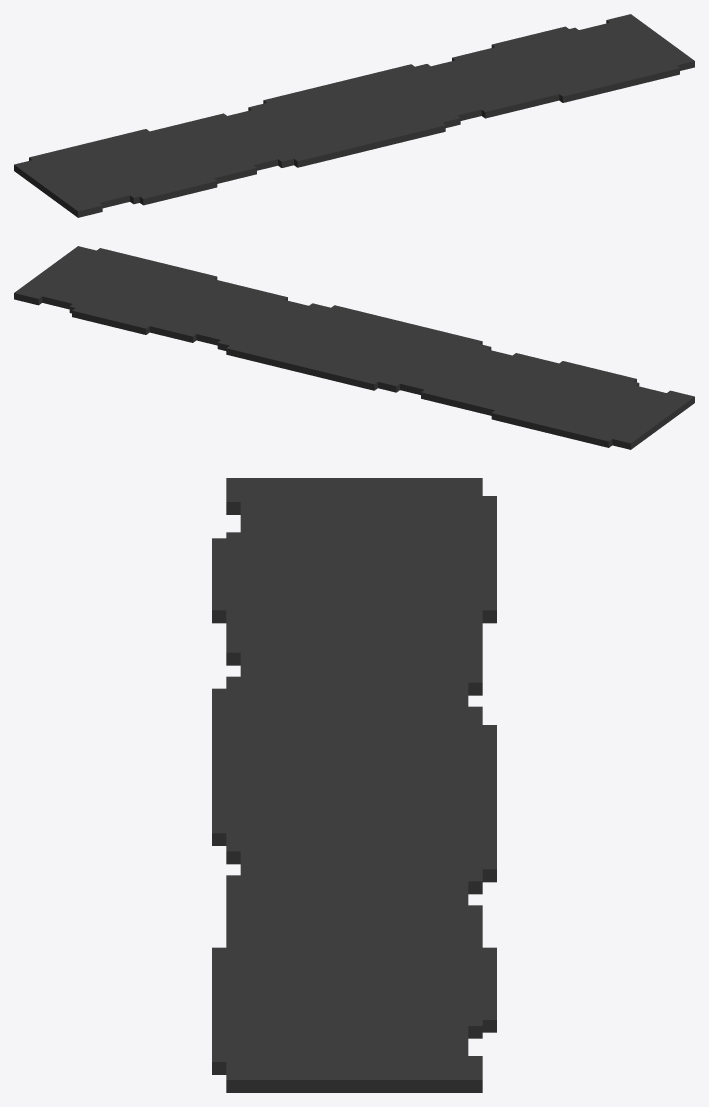
Rendered from Road.gltf.
The picture shows the model from 3 angles, top to bottom: view 1: azimuth 30°, elevation 25°; view 2: azimuth 150°, elevation 25°; view 3: azimuth 270°, elevation 25°; orthographic projection. The views are drawn at different scales.
Size of the model in its own units: 10 by 0.1 by 2.
1 material, 1 textured.
